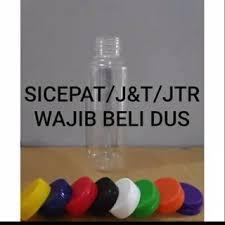BIODEGRADABLE: (79, 18, 141, 183)
